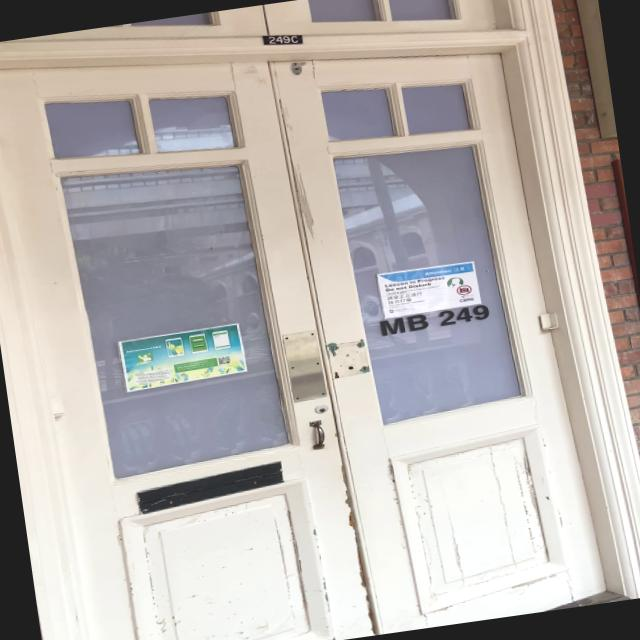room249c: (257, 30, 308, 50)
room249cWindow: (377, 299, 492, 339)
